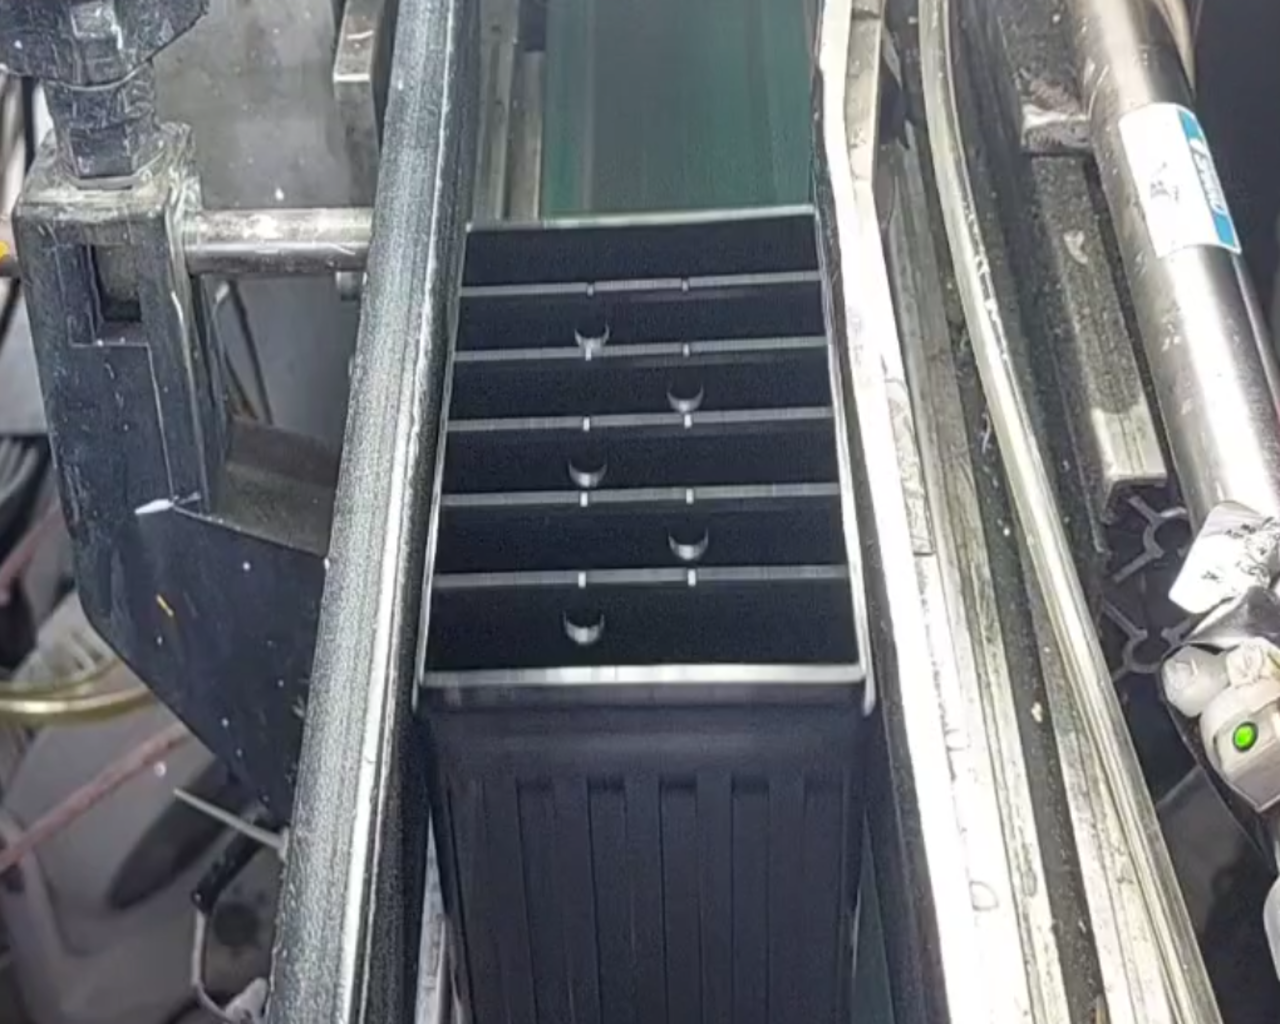box: (393, 181, 897, 735)
round: (649, 504, 724, 572), (550, 583, 621, 651), (556, 295, 622, 363), (549, 433, 621, 494), (657, 363, 717, 421)
